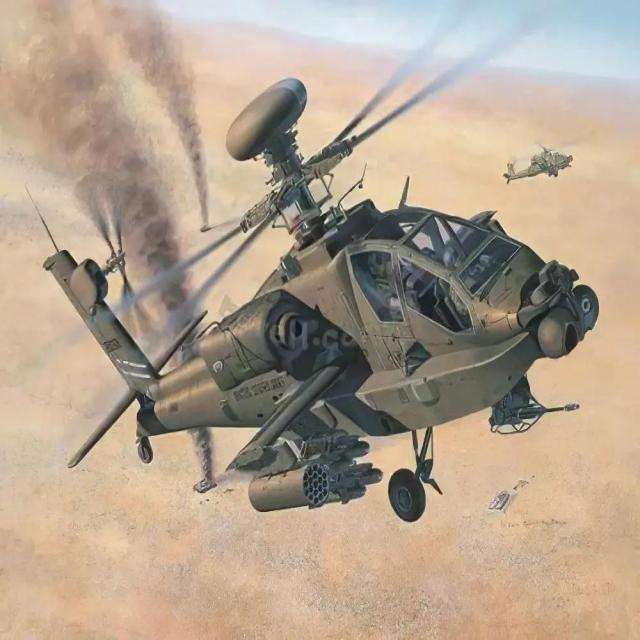MIL_HELO: (39, 61, 620, 564)
